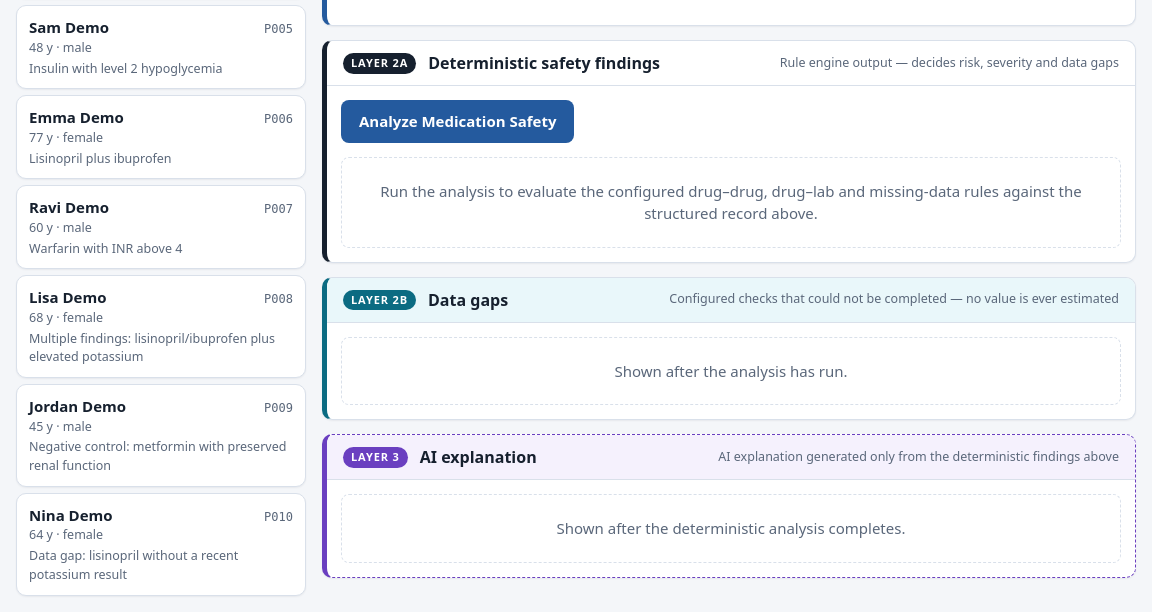
clinical data layer › opens a clinical note as context-only
(page scrolled)
Click the button "Lisa Demo".
click(161, 327)  # box top-left (16, 275), bottom-right (306, 378)
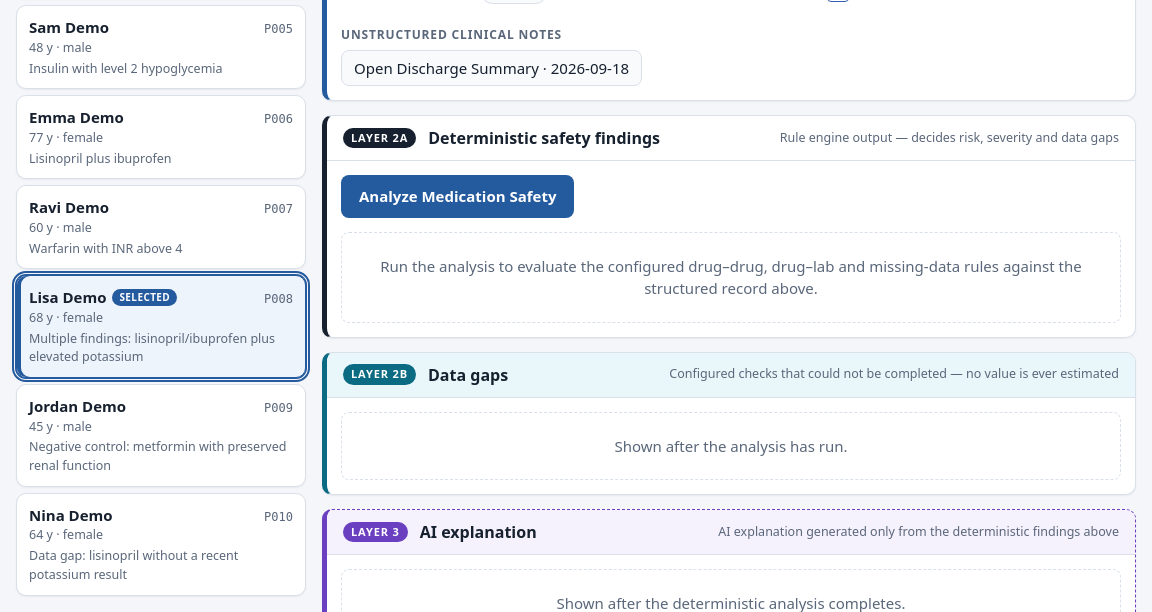
Click the button "Open Discharge Summary · 2026-09-18".
click(492, 68)  # box top-left (341, 50), bottom-right (642, 86)
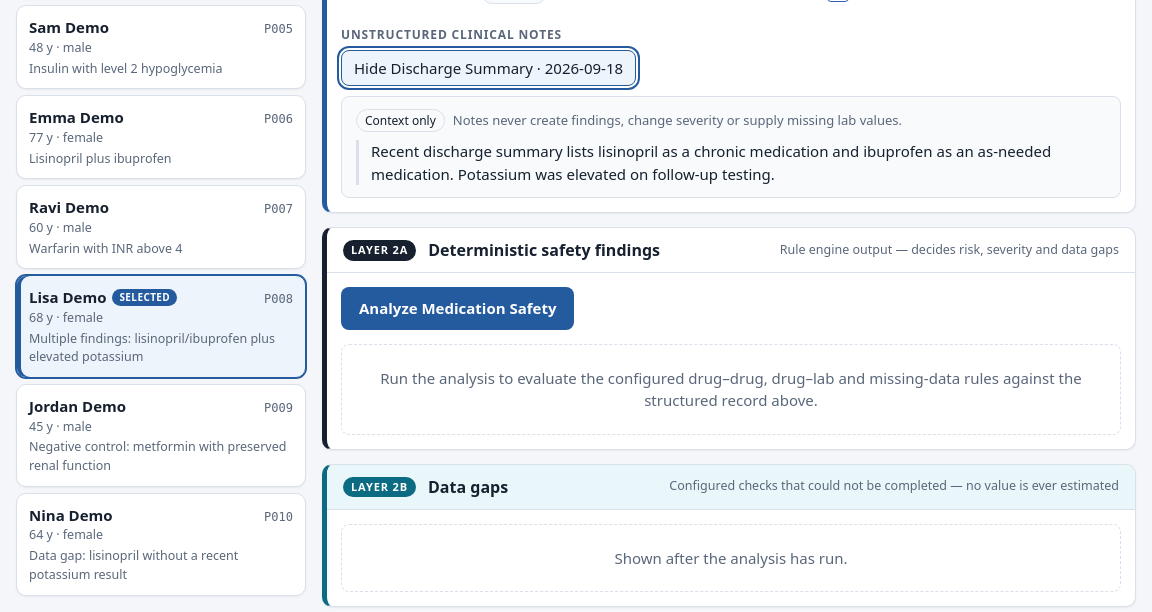
Expected: the text "Potassium was elevated on follow-up testing" is shown, top-left (371, 141), bottom-right (1055, 184)
Expected: the text "Context only" is shown, top-left (356, 109), bottom-right (445, 132)
